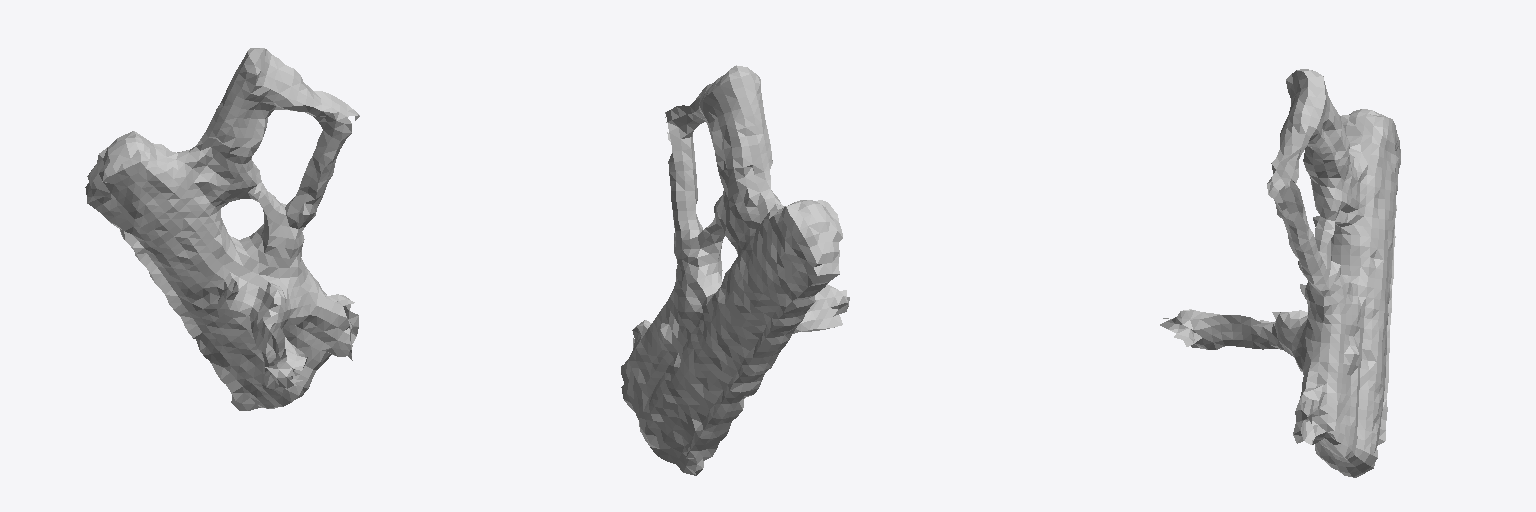
Rendered from lowPolyDone.obj.
3 views of the same model, side by side, from view 1: azimuth 30°, elevation 25°; view 2: azimuth 150°, elevation 25°; view 3: azimuth 270°, elevation 25° (orthographic).
Parts seen in each view (by area): view 1: texturedMesh.001; view 2: texturedMesh.001; view 3: texturedMesh.001.
Boxes of the visible parts, x1,y1,x2,y2 form: texturedMesh.001: [85, 48, 359, 410]; texturedMesh.001: [621, 65, 849, 475]; texturedMesh.001: [1160, 69, 1400, 477].
Bounding box in the file's own units: 0.8407 × 1.3 × 0.7351.